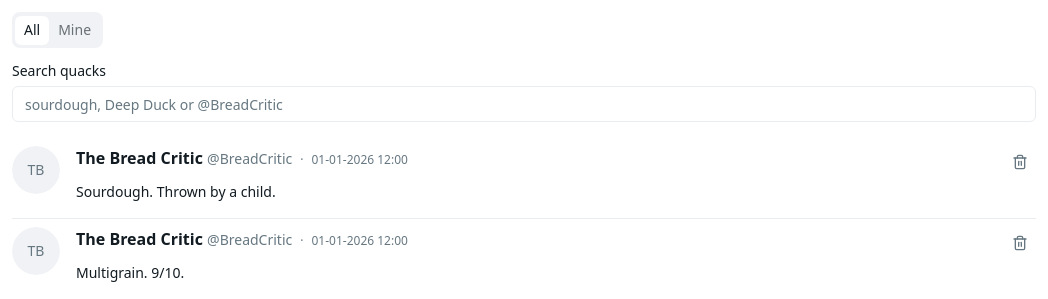
Test: QuackFeed › brings back the full feed when the field is cleared
Type "sourdough" into the search field labelled "Search quacks" at (524, 104), box [12,86,1036,122]
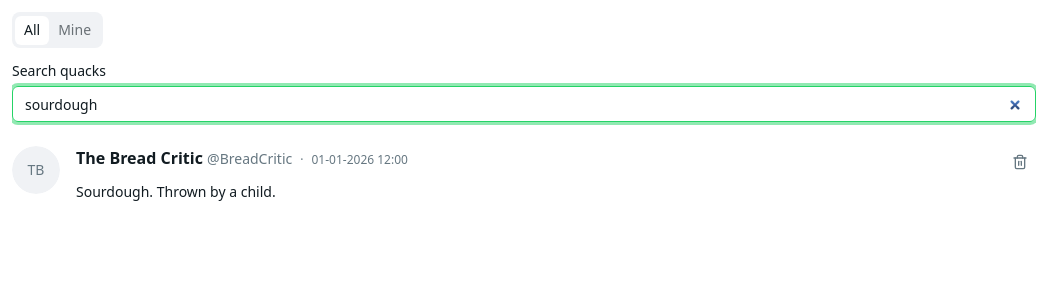
Expected: the text "Multigrain. 9/10." is gone
Clear the search field labelled "Search quacks" at (524, 104), box [12,86,1036,122]
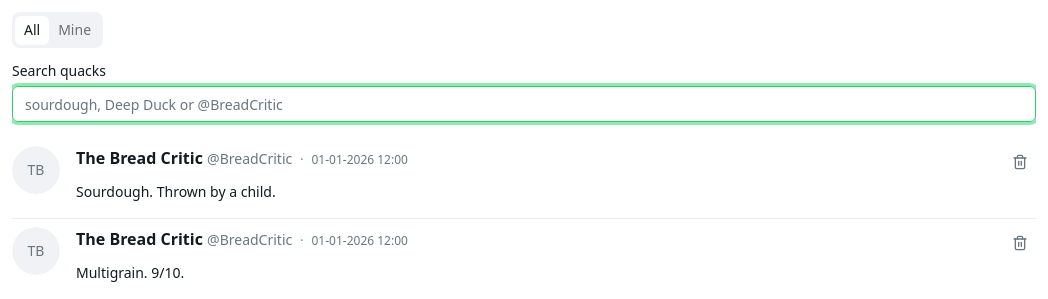
Expected: the text "Multigrain. 9/10." is shown, [76,263,184,282]
